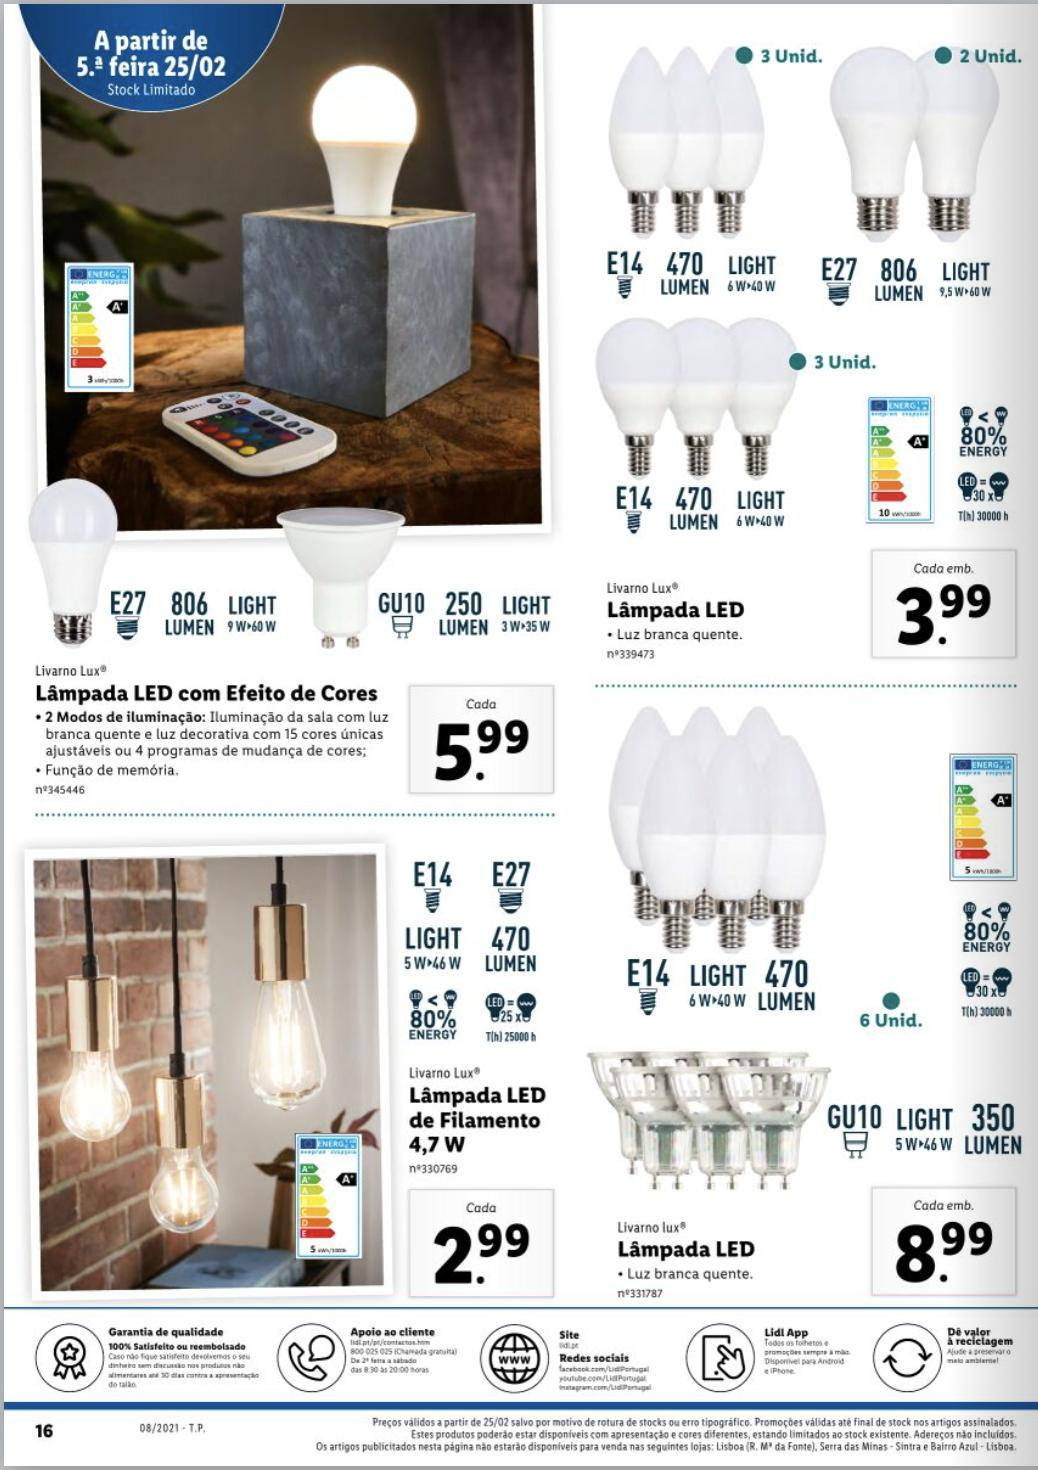name: (399, 1081, 548, 1158), (29, 678, 380, 710), (600, 594, 748, 629), (613, 1234, 761, 1264)
price: (428, 712, 539, 787), (432, 1214, 540, 1289), (886, 578, 1004, 647), (893, 1214, 1000, 1287)
product: (579, 22, 1035, 674), (582, 696, 1031, 1299), (8, 832, 568, 1298), (17, 467, 562, 807)
